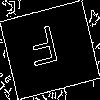F: (24, 24, 63, 76)
